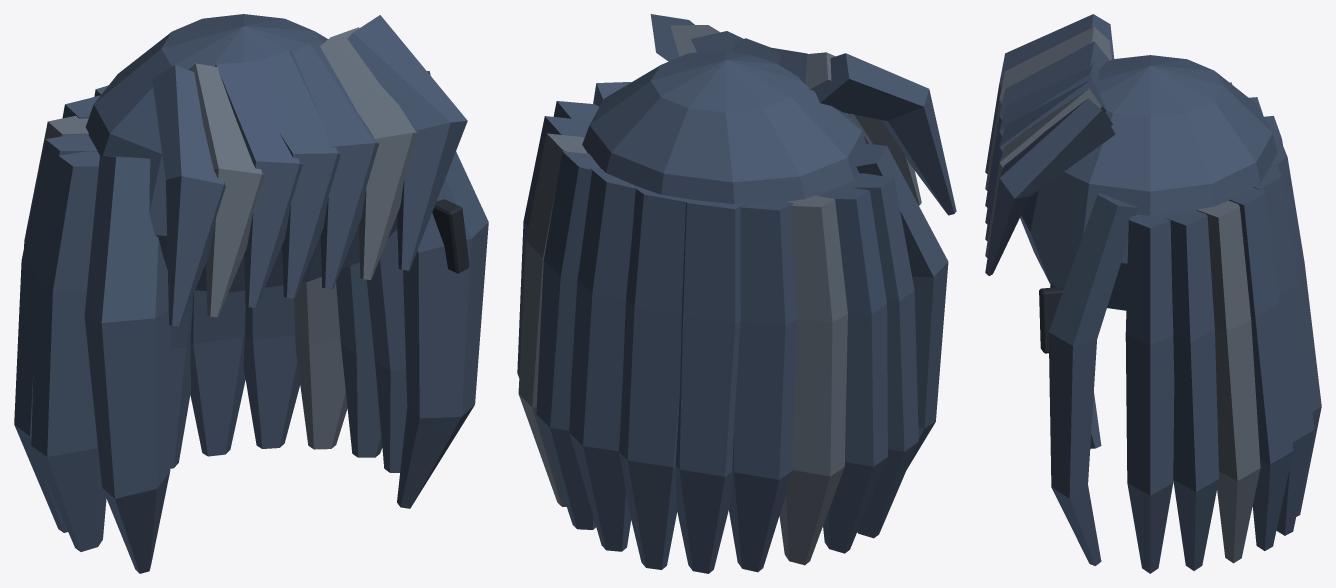
The picture shows the model from 3 angles, left to right: view 1: azimuth 30°, elevation 25°; view 2: azimuth 150°, elevation 25°; view 3: azimuth 270°, elevation 25°; orthographic projection. The views are drawn at different scales.
Visible parts, largest first — view 1: Mecha lateral, Mecha longa.010, Mecha lateral.001, Copa facetada, Mecha da franja, Mecha da franja.006, Mecha da franja.002, Mecha da franja.003, Mecha da franja.005, Mecha da franja.004, Mecha da franja.001, Mecha longa.004 (+8 smaller); view 2: Copa facetada, Mecha longa.006, Mecha longa.005, Mecha longa.007, Mecha longa.008, Mecha longa.004, Mecha longa.009, Mecha longa.003, Mecha longa.010, Mecha da franja, Mecha lateral, Mecha longa.002 (+8 smaller); view 3: Copa facetada, Mecha longa, Mecha lateral.001, Mecha longa.001, Mecha longa.002, Mecha longa.003, Mecha longa.004, Mecha da franja.006, Mecha longa.005, Mecha da franja.002, Mecha da franja.001, Mecha da franja (+4 smaller).
Part boxes in pixels (x1,y1,x2,y2): Mecha lateral: (84, 155, 171, 573); Mecha longa.010: (31, 151, 106, 551); Mecha lateral.001: (396, 151, 488, 508); Copa facetada: (86, 14, 397, 292); Mecha da franja: (152, 65, 225, 326); Mecha da franja.006: (347, 15, 467, 270); Mecha da franja.002: (214, 60, 302, 307); Mecha da franja.003: (257, 51, 340, 298); Mecha da franja.005: (320, 27, 417, 279); Mecha da franja.004: (293, 42, 379, 289); Mecha da franja.001: (188, 63, 264, 317); Mecha longa.004: (190, 290, 245, 456); Copa facetada: (582, 51, 866, 204); Mecha longa.006: (675, 200, 745, 573); Mecha longa.005: (619, 185, 694, 569); Mecha longa.007: (729, 201, 796, 572); Mecha longa.008: (779, 195, 847, 565); Mecha longa.004: (569, 168, 635, 551); Mecha longa.009: (818, 186, 887, 553); Mecha longa.003: (536, 151, 600, 529); Mecha longa.010: (843, 173, 918, 538); Mecha da franja: (814, 53, 956, 215); Mecha lateral: (856, 143, 948, 468); Mecha longa.002: (518, 133, 587, 506); Copa facetada: (1020, 55, 1277, 310); Mecha longa: (1125, 214, 1174, 573); Mecha lateral.001: (1048, 193, 1138, 565); Mecha longa.001: (1165, 210, 1218, 570); Mecha longa.002: (1197, 201, 1260, 563); Mecha longa.003: (1229, 187, 1293, 550); Mecha longa.004: (1254, 165, 1314, 535); Mecha da franja.006: (985, 98, 1115, 275); Mecha longa.005: (1270, 137, 1321, 516); Mecha da franja.002: (985, 41, 1109, 207); Mecha da franja.001: (985, 27, 1111, 190); Mecha da franja: (985, 14, 1114, 173).
Size of the model in its own units: 1.34 by 1.56 by 1.04.
